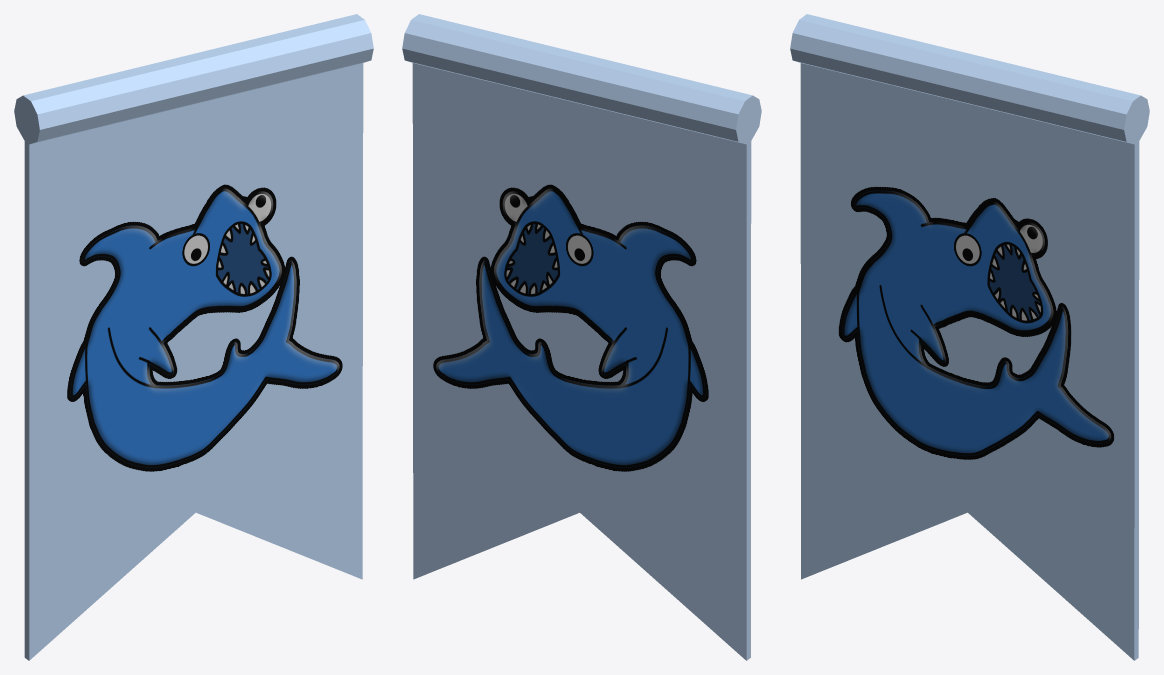
File: Banner_V02.fbx
3 views of the same model, side by side, from view 1: azimuth 30°, elevation 25°; view 2: azimuth 150°, elevation 25°; view 3: azimuth 330°, elevation 25° (orthographic).
Parts seen in each view (by area): view 1: BannerTest; view 2: BannerTest; view 3: BannerTest.
Boxes of the visible parts, x1,y1,x2,y2 form: BannerTest: (14, 14, 373, 660); BannerTest: (402, 14, 761, 660); BannerTest: (790, 14, 1149, 660).
Size of the model in its own units: 231 by 370 by 30.8.
